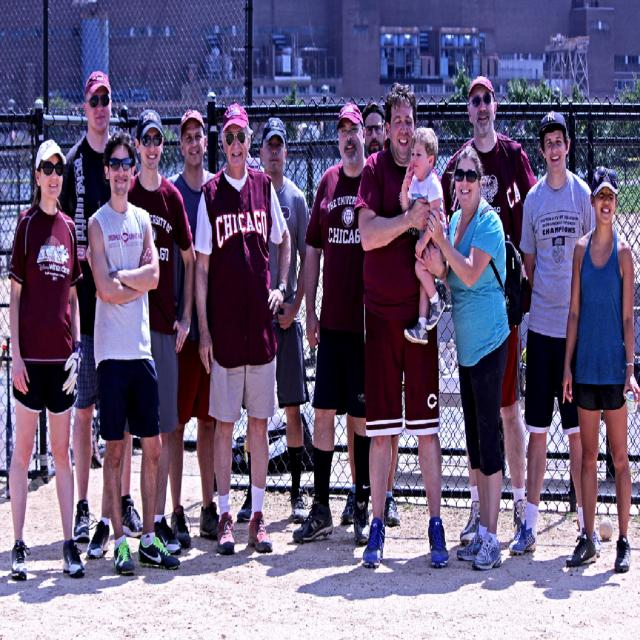body: (84, 106, 199, 564), (438, 71, 544, 554), (352, 80, 454, 572), (289, 100, 396, 548), (194, 100, 294, 558), (423, 145, 525, 576), (86, 128, 183, 578), (57, 70, 147, 546), (508, 108, 603, 558), (6, 134, 88, 585), (560, 161, 640, 575), (237, 116, 310, 523), (164, 105, 227, 550), (341, 99, 402, 528), (258, 540, 620, 611), (0, 537, 254, 602), (397, 122, 452, 348)
